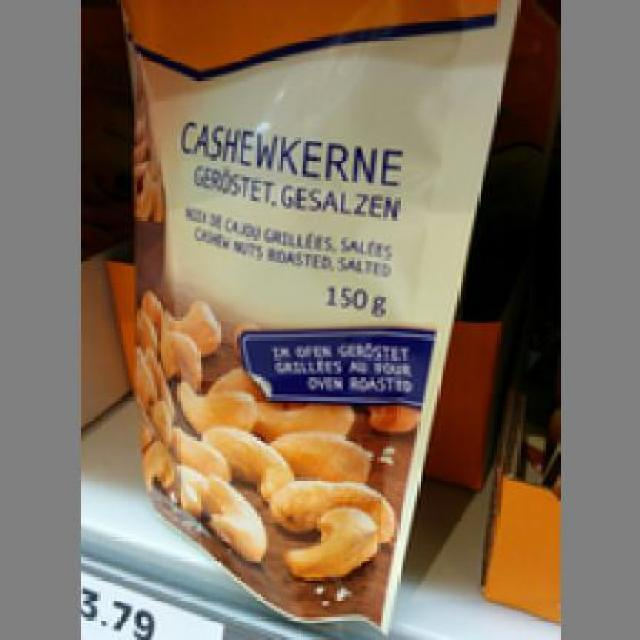Nuts: (107, 0, 523, 632)
